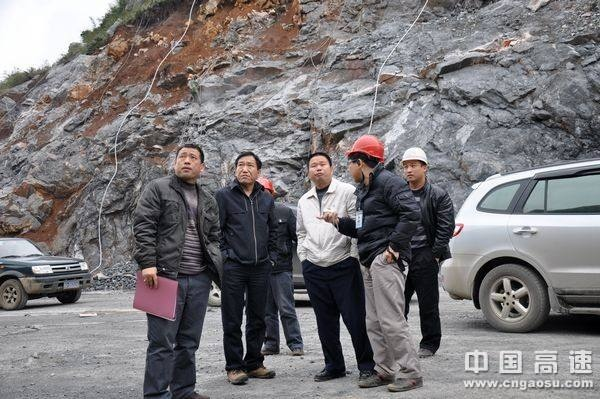none: (171, 141, 206, 184), (303, 148, 336, 191), (231, 149, 262, 189)
red: (344, 132, 387, 183)
white: (399, 144, 430, 189)
